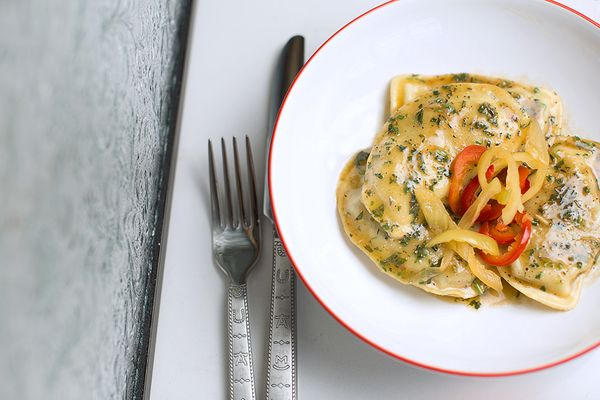burger: (252, 35, 304, 383), (205, 133, 266, 396)
